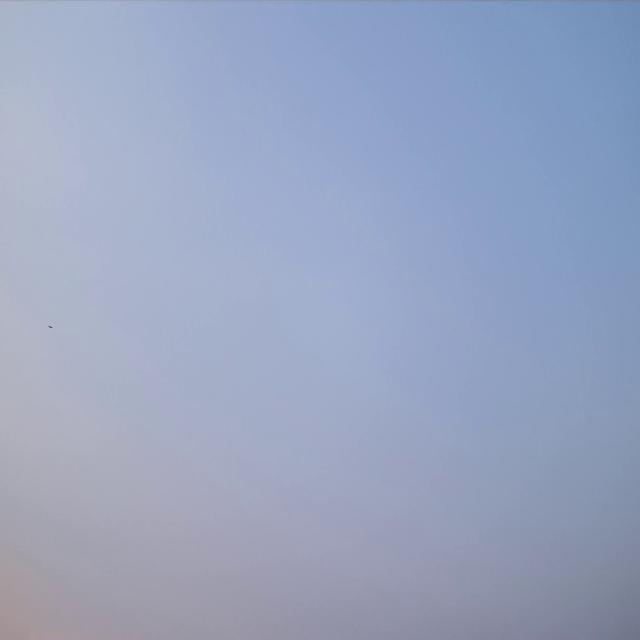UAV: (47, 325, 53, 329)
